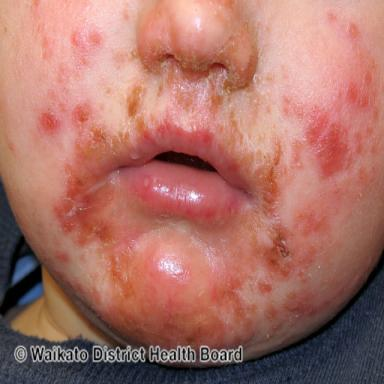Impetigo: (33, 0, 384, 345)
